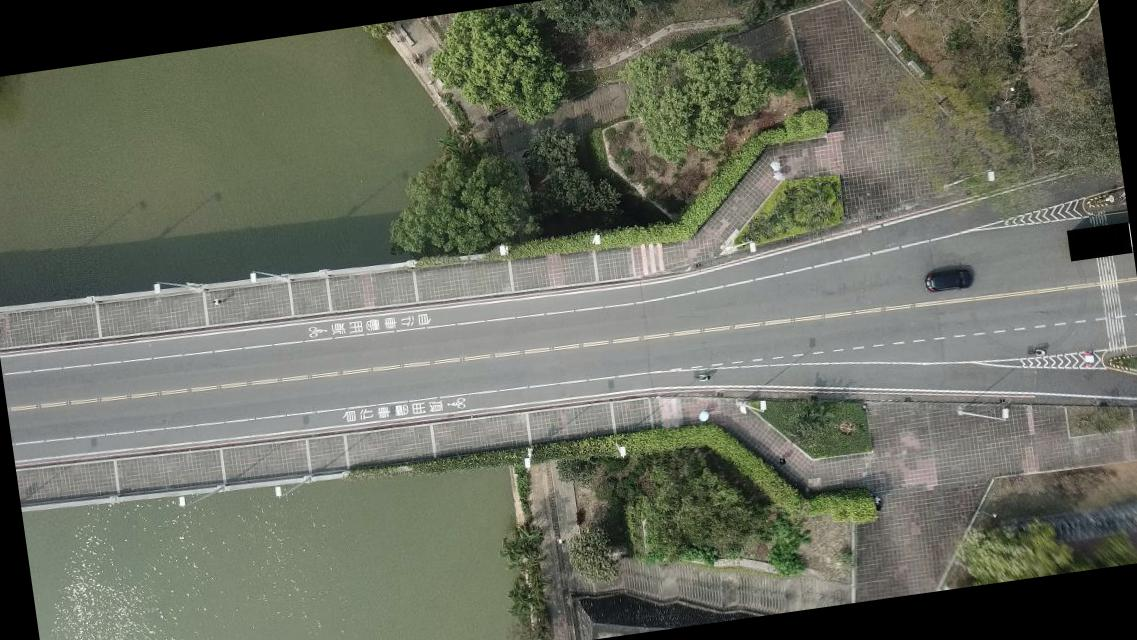vehicle: (924, 266, 974, 294)
